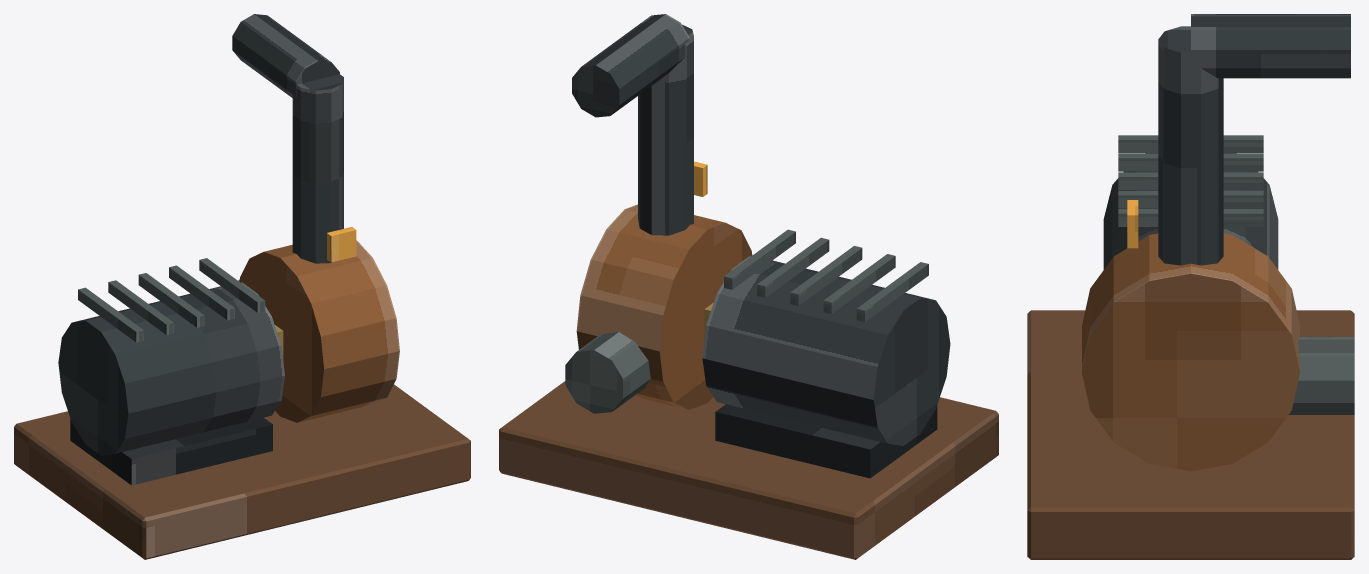
Rendered from sewer_pump.glb.
3 renders of one model, left to right at view 1: azimuth 30°, elevation 25°; view 2: azimuth 150°, elevation 25°; view 3: azimuth 270°, elevation 25°, orthographic. The views are drawn at different scales.
Parts seen in each view (by area): view 1: Plinth, Motor, Volute, Discharge, MotorFoot, DischargeBend, Fin1, Fin2, Fin4, Fin0, Fin3, Gauge; view 2: Plinth, Motor, Volute, Discharge, MotorFoot, DischargeBend, Suction, Fin0, Fin3, Fin2, Fin1, Fin4; view 3: Plinth, Volute, Discharge, DischargeBend, Suction, Motor, Fin0, Fin1, Fin2, Fin3, Fin4, Gauge.
Boxes of the visible parts, x1,y1,x2,y2 form: Plinth: [14, 384, 470, 559]; Motor: [58, 282, 284, 455]; Volute: [239, 240, 399, 422]; Discharge: [292, 74, 343, 263]; MotorFoot: [70, 417, 272, 485]; DischargeBend: [232, 14, 339, 97]; Fin1: [108, 280, 174, 335]; Fin2: [138, 273, 204, 327]; Fin4: [199, 258, 265, 312]; Fin0: [78, 287, 143, 342]; Fin3: [169, 265, 234, 320]; Gauge: [327, 227, 356, 262]; Plinth: [499, 381, 998, 559]; Motor: [702, 256, 950, 445]; Volute: [576, 204, 752, 409]; Discharge: [638, 24, 693, 235]; MotorFoot: [715, 404, 937, 478]; DischargeBend: [572, 14, 689, 117]; Suction: [565, 332, 650, 413]; Fin0: [856, 262, 928, 322]; Fin3: [757, 237, 829, 297]; Fin2: [790, 246, 862, 305]; Fin1: [823, 254, 895, 313]; Fin4: [724, 229, 795, 289]; Plinth: [1027, 310, 1354, 559]; Volute: [1082, 233, 1299, 471]; Discharge: [1158, 26, 1223, 265]; DischargeBend: [1191, 14, 1350, 78]; Suction: [1288, 336, 1354, 414]; Motor: [1103, 153, 1278, 269]; Fin0: [1118, 135, 1263, 153]; Fin1: [1118, 153, 1263, 171]; Fin2: [1118, 172, 1263, 189]; Fin3: [1118, 190, 1263, 208]; Fin4: [1118, 209, 1263, 226]; Gauge: [1127, 200, 1138, 248].
Size of the model in its own units: 1.3 by 1.49 by 0.9.
Materials: 3 (3 with a texture image).
